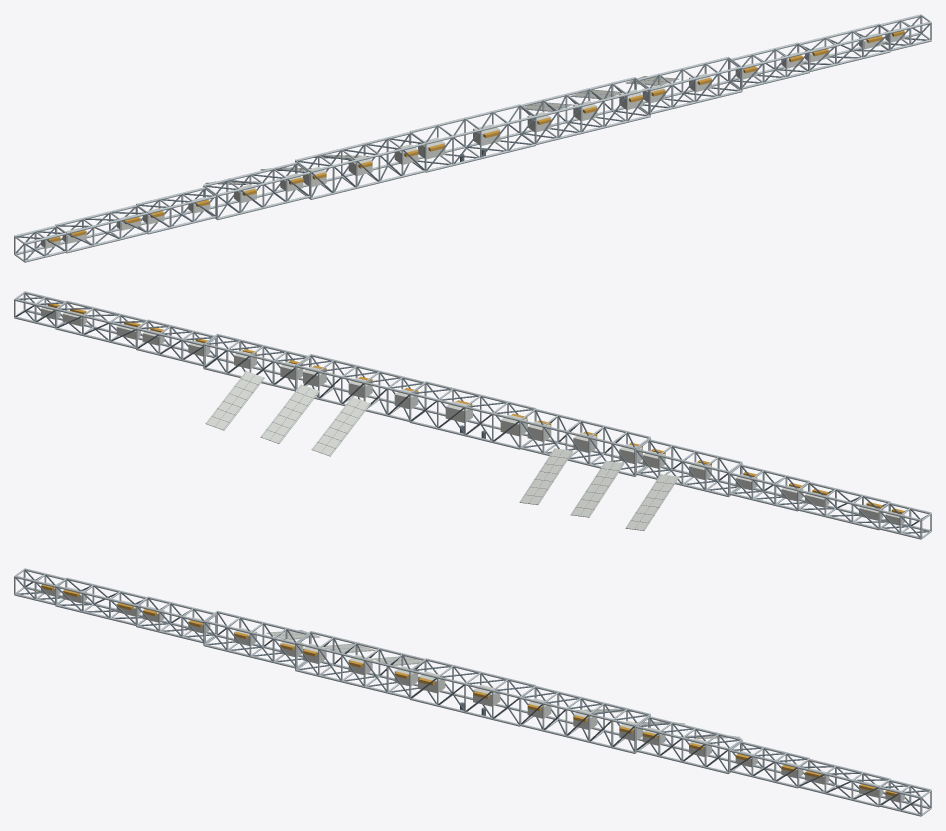
The model's file is iss_truss.glb.
The picture shows the model from 3 angles, top to bottom: view 1: azimuth 30°, elevation 25°; view 2: azimuth 150°, elevation 25°; view 3: azimuth 330°, elevation 25°; orthographic projection.
Parts seen in each view (by area): view 1: iss_truss.s1.mesh_Satin_aluminum, iss_truss.p1.mesh_Satin_aluminum, iss_truss.s0.mesh_Satin_aluminum, iss_truss.s3.mesh_Satin_aluminum, iss_truss.p3.mesh_Satin_aluminum, iss_truss.p5.mesh_Satin_aluminum, iss_truss.s5.mesh_Satin_aluminum, iss_truss.s4.mesh_Satin_aluminum, iss_truss.p4.mesh_Satin_aluminum, iss_truss.p1.mesh_Machined_steel, iss_truss.s1.mesh_Machined_steel, iss_truss.p1.mesh_Pale_thermal_blanket (+10 smaller); view 2: iss_truss.p1.mesh_Satin_aluminum, iss_truss.s1.mesh_Satin_aluminum, iss_truss.s0.mesh_Satin_aluminum, iss_truss.p3.mesh_Satin_aluminum, iss_truss.s3.mesh_Satin_aluminum, iss_truss.s_radiator_03.gimbal.mesh_Pale_thermal_blanket, iss_truss.s_radiator_01.gimbal.mesh_Pale_thermal_blanket, iss_truss.s_radiator_02.gimbal.mesh_Pale_thermal_blanket, iss_truss.p5.mesh_Satin_aluminum, iss_truss.p_radiator_03.gimbal.mesh_Pale_thermal_blanket, iss_truss.p_radiator_01.gimbal.mesh_Pale_thermal_blanket, iss_truss.p_radiator_02.gimbal.mesh_Pale_thermal_blanket (+17 smaller); view 3: iss_truss.p1.mesh_Satin_aluminum, iss_truss.s1.mesh_Satin_aluminum, iss_truss.s0.mesh_Satin_aluminum, iss_truss.p3.mesh_Satin_aluminum, iss_truss.s3.mesh_Satin_aluminum, iss_truss.s5.mesh_Satin_aluminum, iss_truss.p5.mesh_Satin_aluminum, iss_truss.p4.mesh_Satin_aluminum, iss_truss.s4.mesh_Satin_aluminum, iss_truss.s1.mesh_Machined_steel, iss_truss.p1.mesh_Machined_steel, iss_truss.s0.mesh_Machined_steel (+10 smaller).
Part boxes in pixels (left/top/right/bottom): iss_truss.s1.mesh_Satin_aluminum: left=519, top=77, right=650, bottom=144; iss_truss.p1.mesh_Satin_aluminum: left=295, top=132, right=425, bottom=199; iss_truss.s0.mesh_Satin_aluminum: left=409, top=104, right=536, bottom=172; iss_truss.s3.mesh_Satin_aluminum: left=635, top=56, right=742, bottom=114; iss_truss.p3.mesh_Satin_aluminum: left=203, top=162, right=309, bottom=220; iss_truss.p5.mesh_Satin_aluminum: left=55, top=205, right=147, bottom=253; iss_truss.s5.mesh_Satin_aluminum: left=797, top=23, right=890, bottom=71; iss_truss.s4.mesh_Satin_aluminum: left=728, top=42, right=810, bottom=89; iss_truss.p4.mesh_Satin_aluminum: left=135, top=187, right=216, bottom=234; iss_truss.p1.mesh_Machined_steel: left=297, top=134, right=424, bottom=196; iss_truss.s1.mesh_Machined_steel: left=522, top=78, right=649, bottom=142; iss_truss.p1.mesh_Pale_thermal_blanket: left=303, top=144, right=418, bottom=186; iss_truss.p1.mesh_Satin_aluminum: left=520, top=409, right=650, bottom=476; iss_truss.s1.mesh_Satin_aluminum: left=295, top=354, right=426, bottom=421; iss_truss.s0.mesh_Satin_aluminum: left=409, top=381, right=536, bottom=449; iss_truss.p3.mesh_Satin_aluminum: left=636, top=439, right=742, bottom=497; iss_truss.s3.mesh_Satin_aluminum: left=203, top=333, right=310, bottom=391; iss_truss.s_radiator_03.gimbal.mesh_Pale_thermal_blanket: left=205, top=371, right=264, bottom=430; iss_truss.s_radiator_01.gimbal.mesh_Pale_thermal_blanket: left=311, top=397, right=370, bottom=456; iss_truss.s_radiator_02.gimbal.mesh_Pale_thermal_blanket: left=260, top=384, right=319, bottom=443; iss_truss.p5.mesh_Satin_aluminum: left=798, top=482, right=890, bottom=530; iss_truss.p_radiator_03.gimbal.mesh_Pale_thermal_blanket: left=625, top=474, right=679, bottom=530; iss_truss.p_radiator_01.gimbal.mesh_Pale_thermal_blanket: left=519, top=448, right=573, bottom=504; iss_truss.p_radiator_02.gimbal.mesh_Pale_thermal_blanket: left=570, top=461, right=624, bottom=517; iss_truss.p1.mesh_Satin_aluminum: left=295, top=631, right=426, bottom=698; iss_truss.s1.mesh_Satin_aluminum: left=520, top=686, right=650, bottom=753; iss_truss.s0.mesh_Satin_aluminum: left=409, top=658, right=536, bottom=726; iss_truss.p3.mesh_Satin_aluminum: left=203, top=610, right=310, bottom=668; iss_truss.s3.mesh_Satin_aluminum: left=636, top=716, right=742, bottom=774; iss_truss.s5.mesh_Satin_aluminum: left=798, top=759, right=890, bottom=807; iss_truss.p5.mesh_Satin_aluminum: left=55, top=577, right=148, bottom=625; iss_truss.p4.mesh_Satin_aluminum: left=135, top=596, right=217, bottom=643; iss_truss.s4.mesh_Satin_aluminum: left=729, top=741, right=810, bottom=788; iss_truss.s1.mesh_Machined_steel: left=521, top=688, right=648, bottom=750; iss_truss.p1.mesh_Machined_steel: left=296, top=632, right=423, bottom=696; iss_truss.s0.mesh_Machined_steel: left=410, top=660, right=534, bottom=723.
Bounding box in the file's own units: 94.16 × 4.38 × 10.16.
